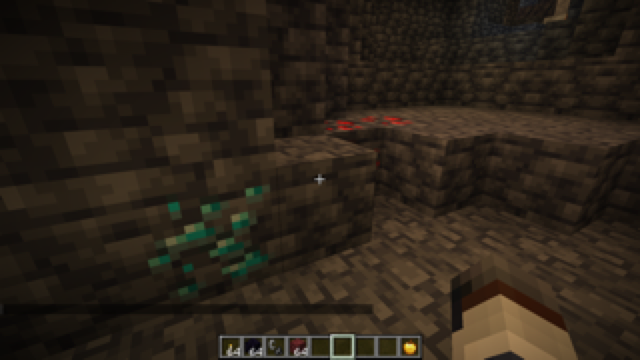diamond: (128, 167, 288, 308)
redstone: (321, 111, 414, 134)
